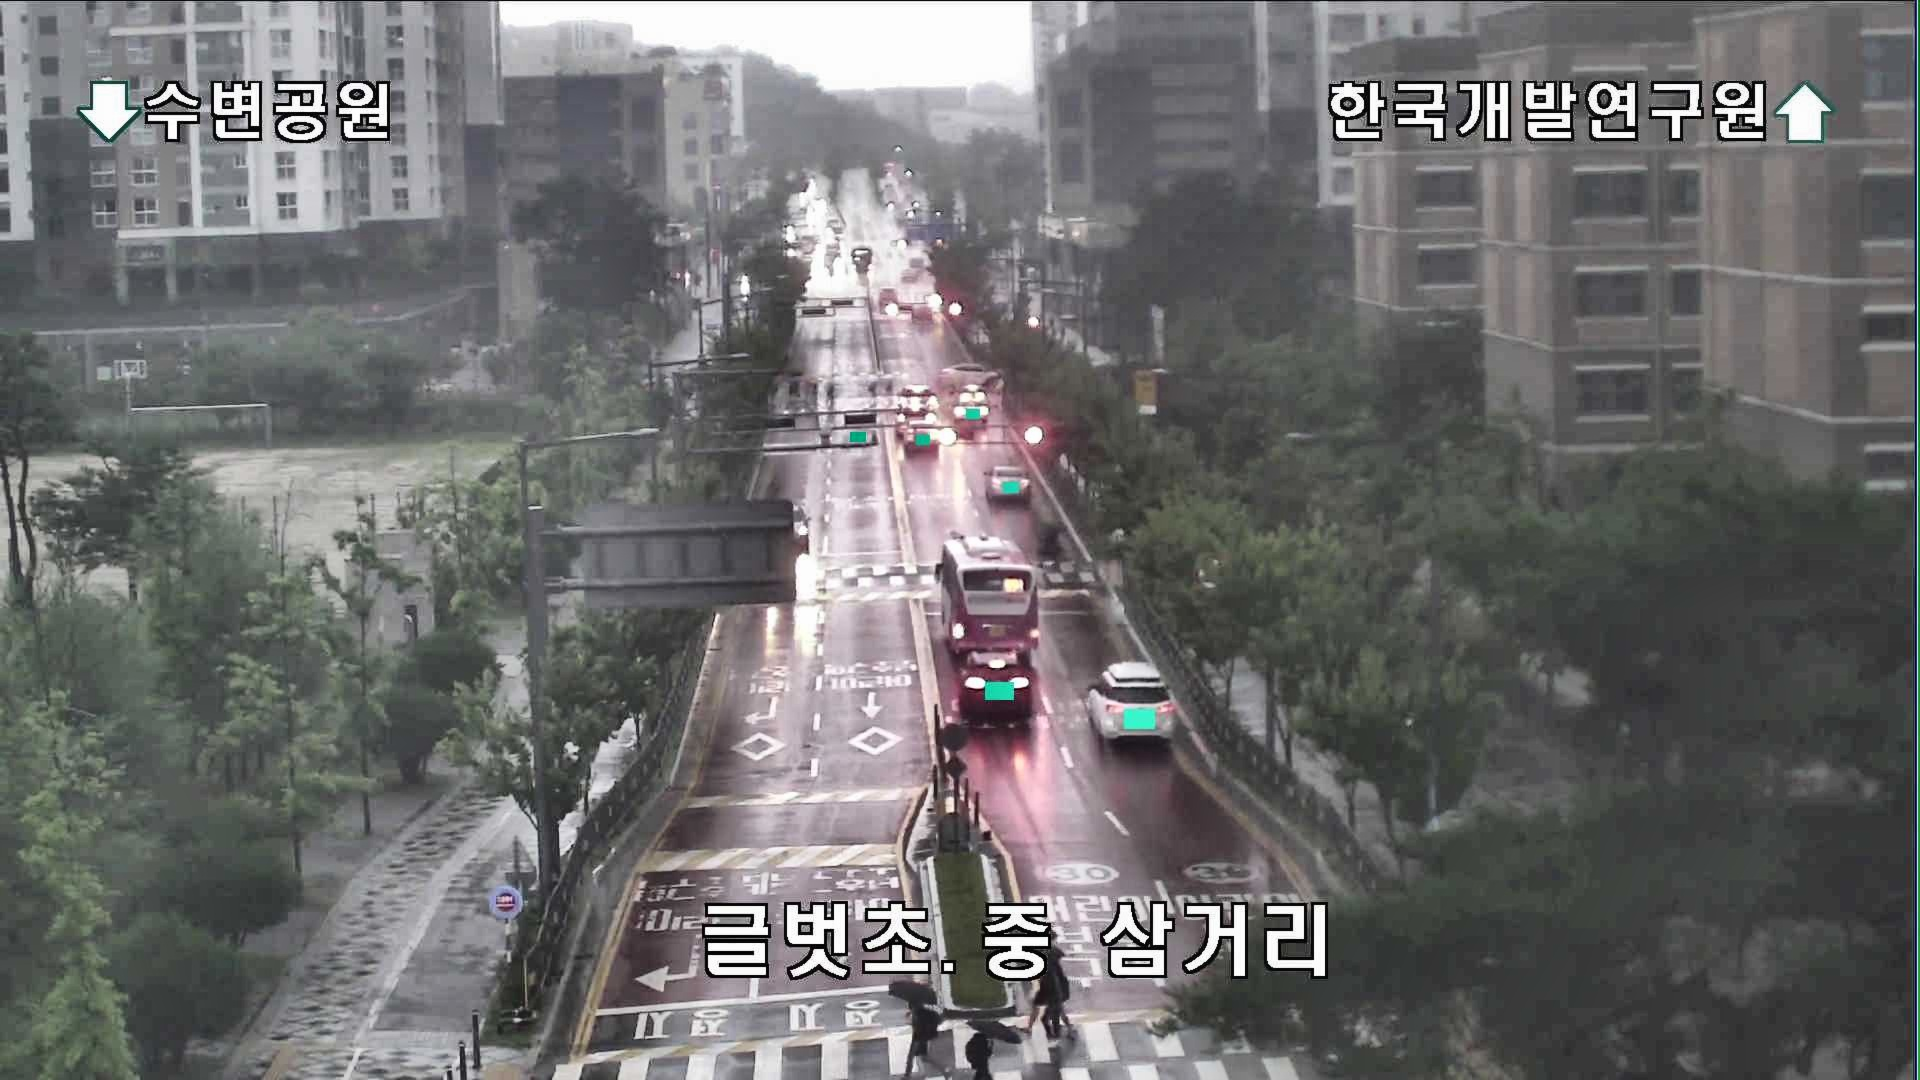um_crosswalk: (887, 981, 949, 1080), (1025, 940, 1072, 1040), (961, 1019, 1021, 1080)
